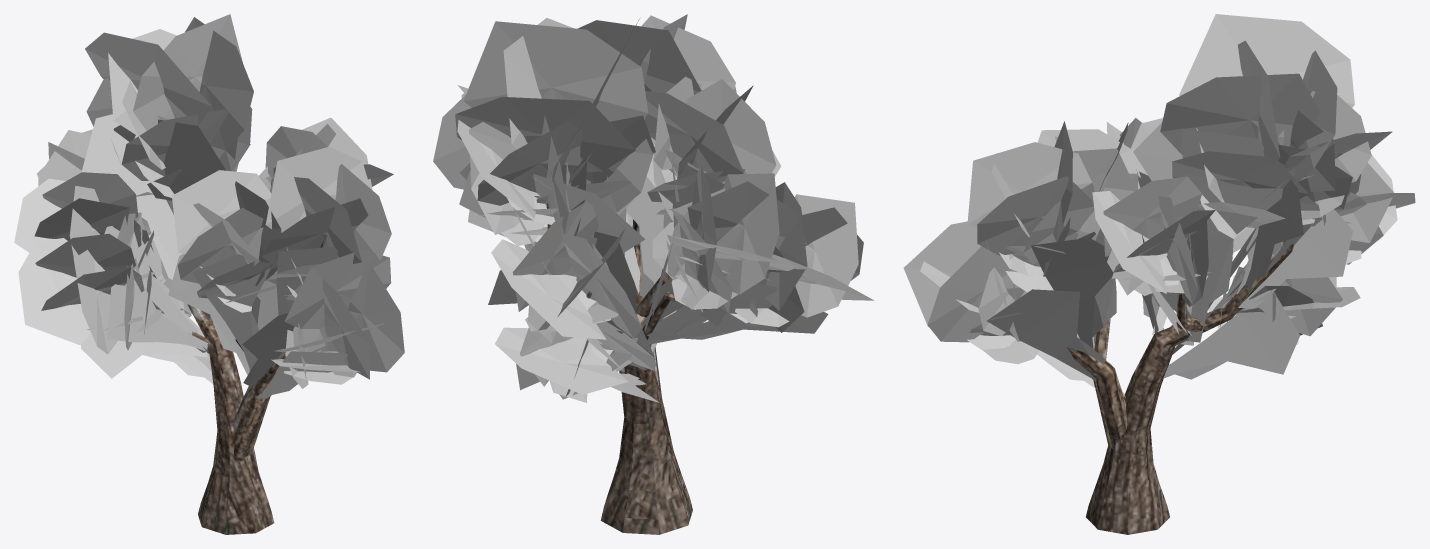
File: Oak_001.fbx
The picture shows the model from 3 angles, left to right: view 1: azimuth 30°, elevation 25°; view 2: azimuth 150°, elevation 25°; view 3: azimuth 270°, elevation 25°; orthographic projection. The views are drawn at different scales.
Visible parts, largest first — view 1: Tree_Oak_Leaves1, Tree_Oak_Trunk1; view 2: Tree_Oak_Leaves1, Tree_Oak_Trunk1; view 3: Tree_Oak_Leaves1, Tree_Oak_Trunk1.
Part boxes in pixels (x1,y1,x2,y2): Tree_Oak_Leaves1: (14,14,404,402); Tree_Oak_Trunk1: (187,241,323,534); Tree_Oak_Leaves1: (433,14,873,402); Tree_Oak_Trunk1: (546,202,705,534); Tree_Oak_Leaves1: (903,14,1415,397); Tree_Oak_Trunk1: (1067,235,1293,534).
Size of the model in its own units: 2376 by 2893 by 2774.
